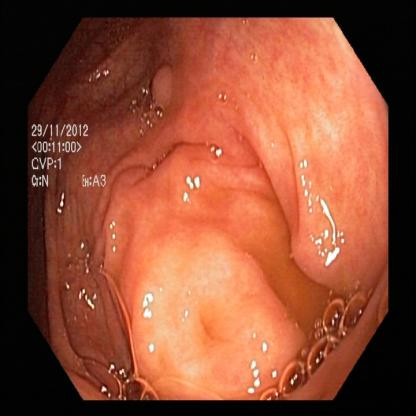Labels: (28, 122, 116, 194)
Polyps: (135, 247, 277, 380), (284, 172, 380, 288), (142, 66, 198, 122)
